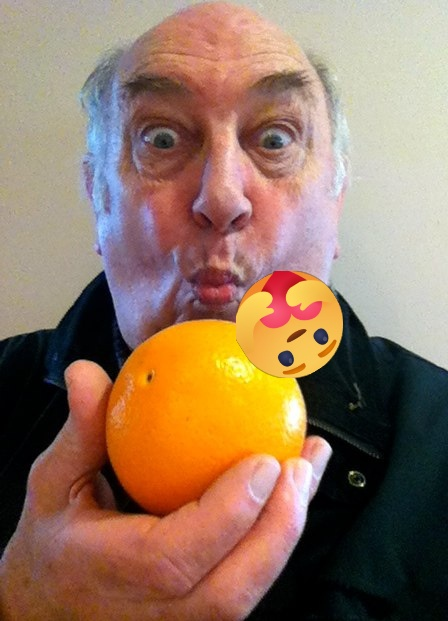care: (236, 271, 343, 378)
